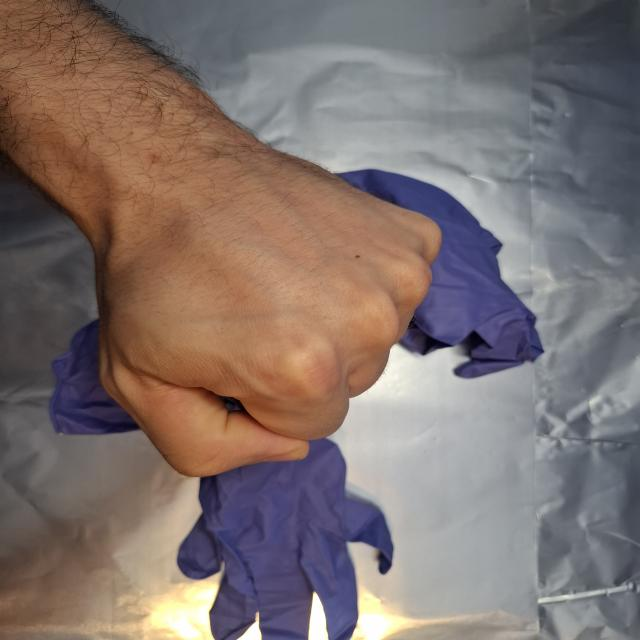glove_off: (86, 122, 446, 481)
